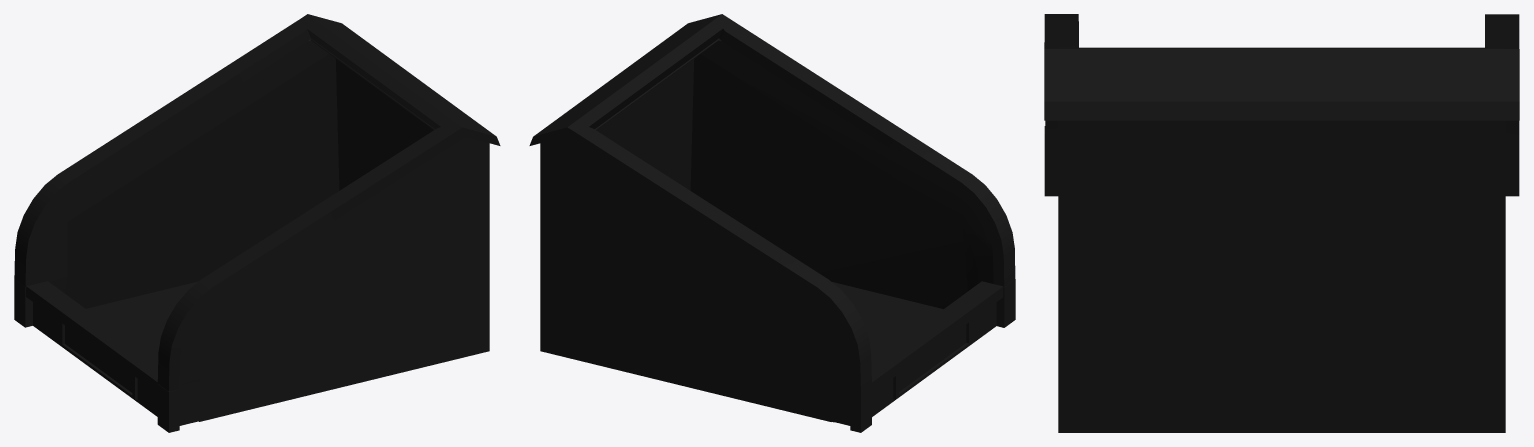
Rendered from SM_Env_PlasticBox.fbx.
3 renders of one model, left to right at view 1: azimuth 30°, elevation 25°; view 2: azimuth 150°, elevation 25°; view 3: azimuth 270°, elevation 25°, orthographic. The views are drawn at different scales.
Visible parts, largest first — view 1: PlasticBox; view 2: PlasticBox; view 3: PlasticBox.
Boxes of the visible parts, box(x1,y1,x2,y2) form: PlasticBox: box(14, 14, 500, 432); PlasticBox: box(529, 14, 1015, 432); PlasticBox: box(1044, 14, 1519, 432).
Size of the model in its own units: 0.1576 by 0.107 by 0.1275.
